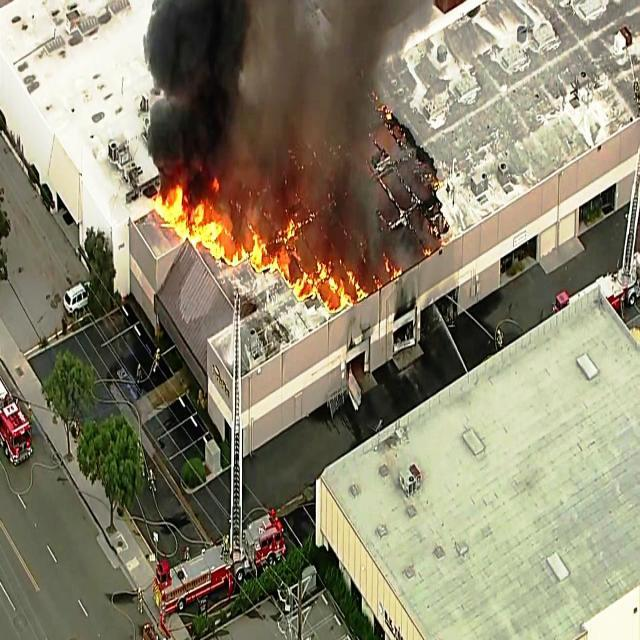Fire: (271, 220, 375, 313), (158, 192, 224, 264), (225, 220, 268, 282), (377, 250, 404, 298)
Smoke: (146, 0, 414, 188)
